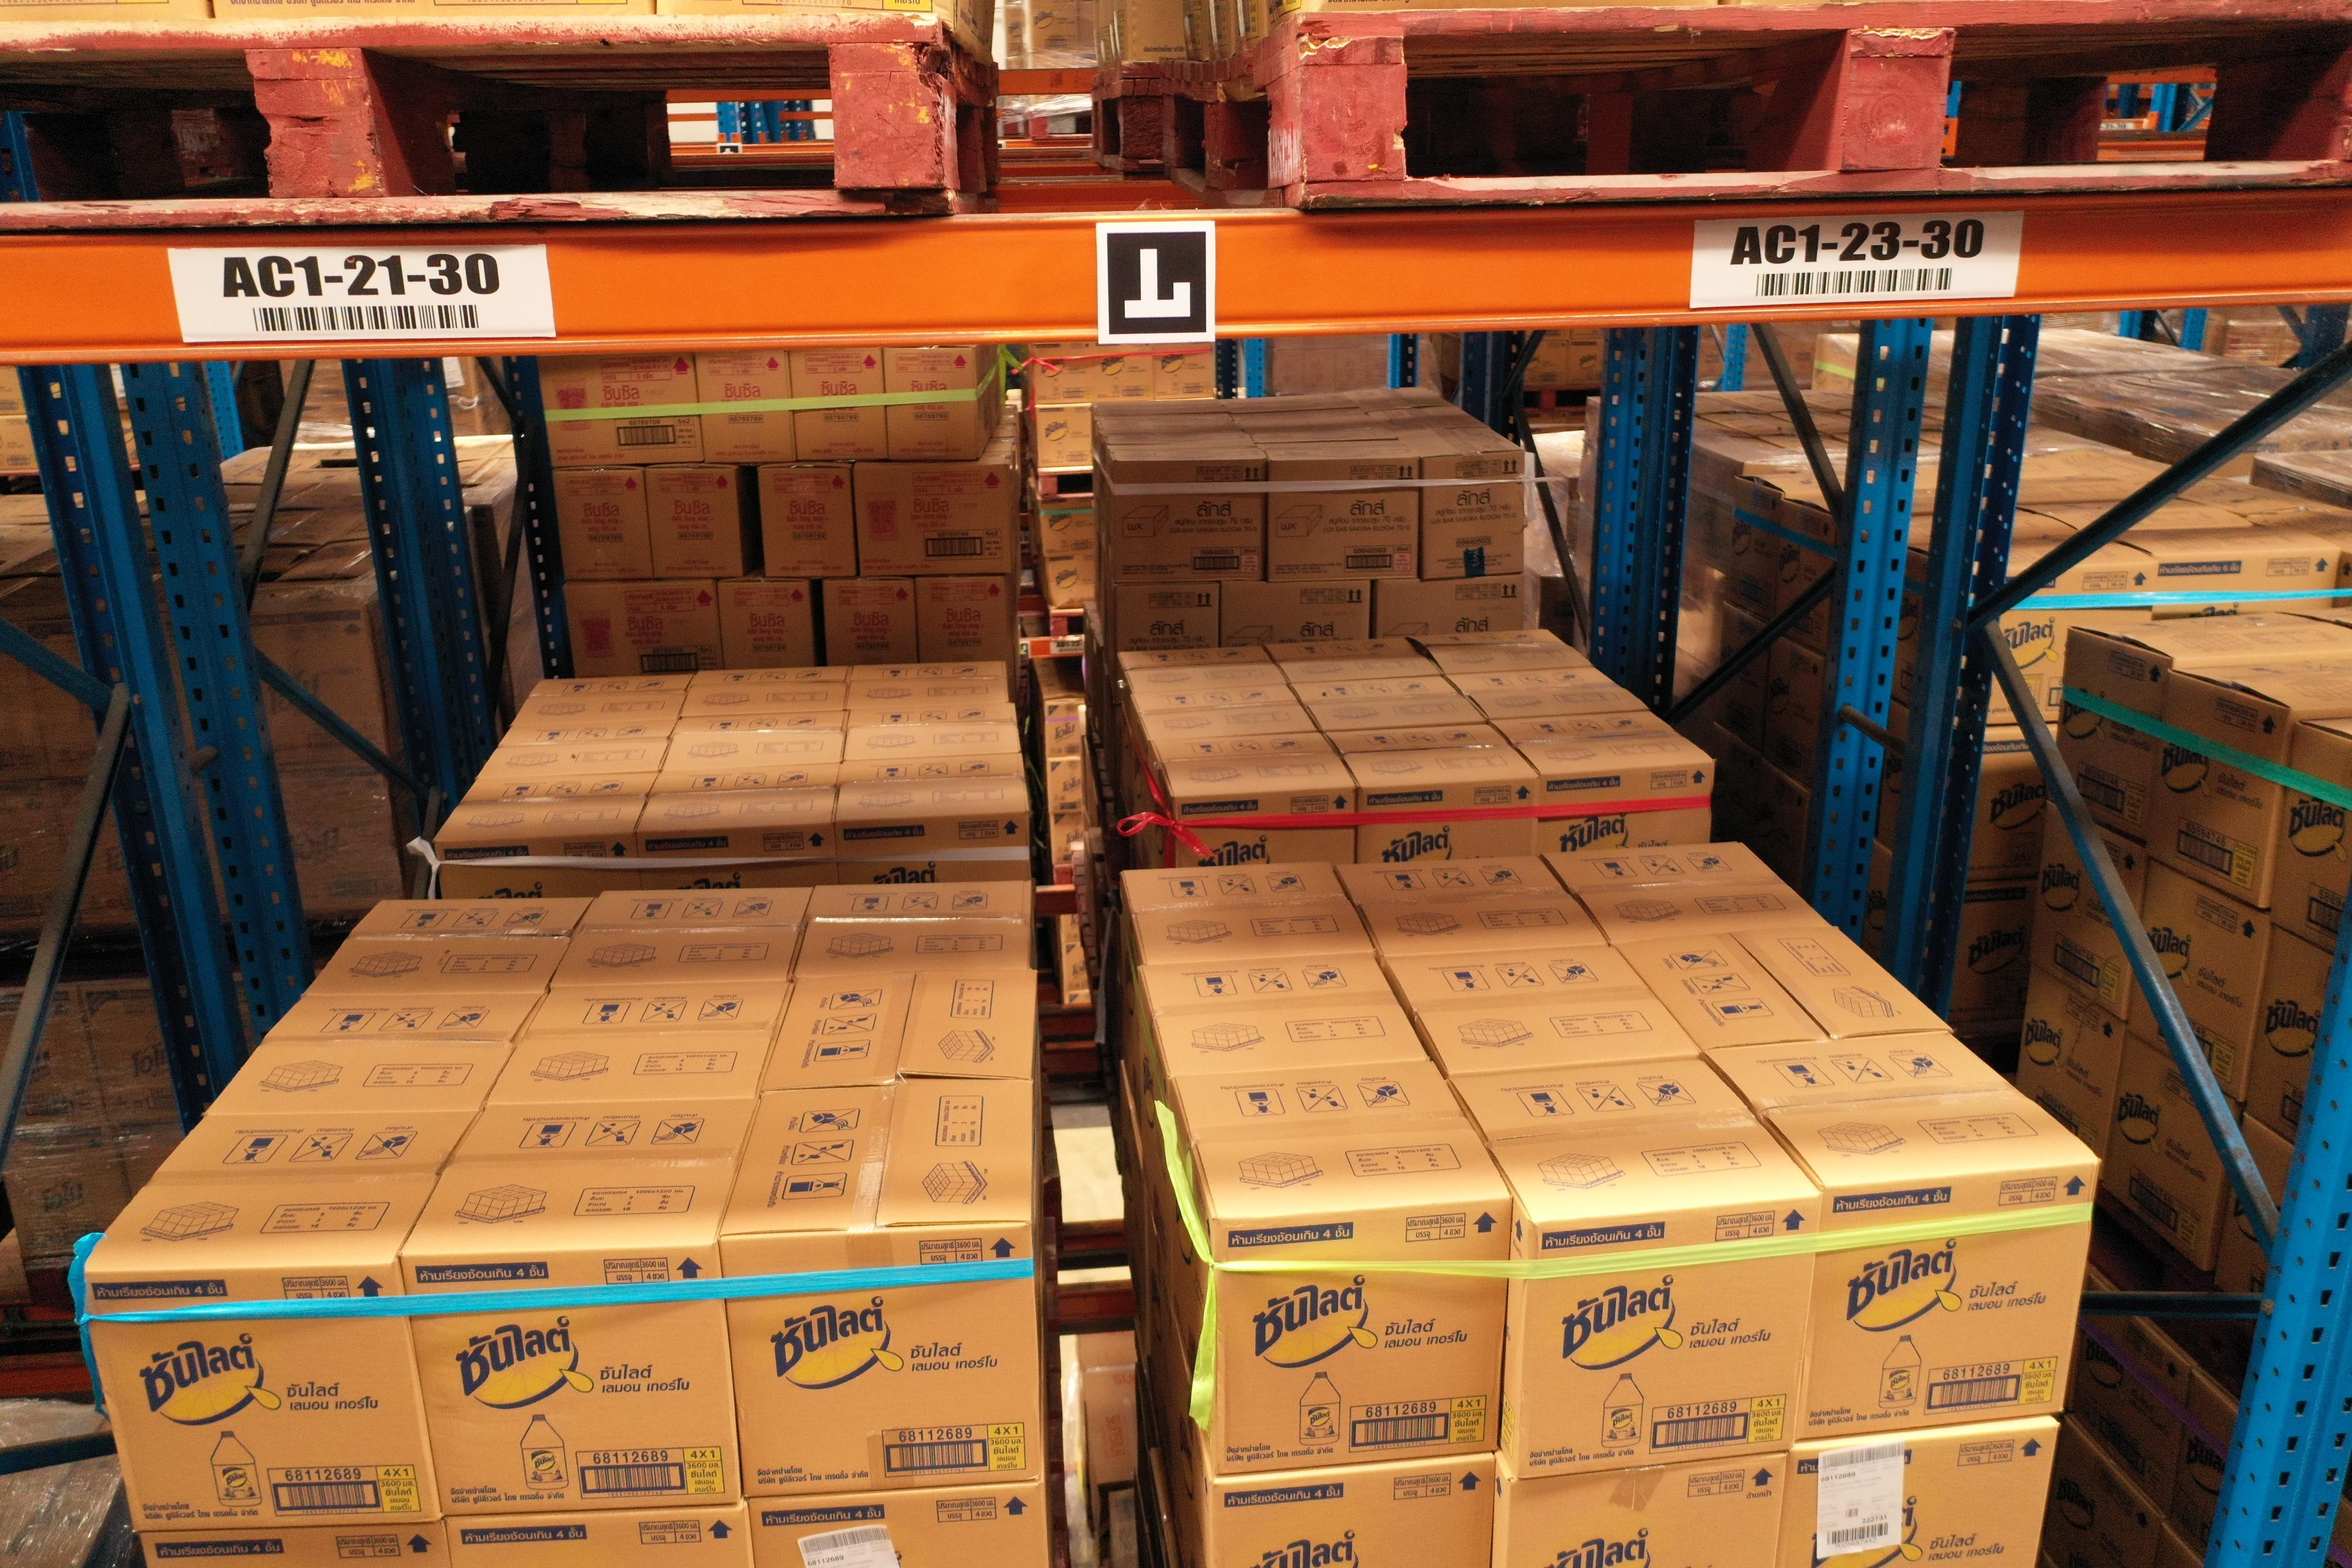-: (70, 1263, 439, 1529), (399, 1242, 740, 1517), (719, 1223, 1045, 1503), (1514, 1197, 1822, 1479), (1794, 1162, 2102, 1440), (1209, 1202, 1510, 1477), (1781, 1424, 2063, 1568), (1501, 1456, 1788, 1568), (1207, 1459, 1500, 1568), (749, 1486, 1050, 1568), (446, 1510, 751, 1568), (140, 1519, 455, 1568)
2: (535, 353, 703, 471), (852, 460, 1017, 579), (1113, 458, 1267, 584), (1265, 458, 1417, 583), (569, 581, 726, 675), (1423, 450, 1524, 577), (695, 350, 798, 464), (758, 465, 857, 583), (789, 348, 889, 462), (556, 465, 653, 583), (647, 465, 740, 581), (882, 348, 978, 458), (1220, 581, 1372, 647), (1377, 576, 1522, 639), (719, 579, 815, 670), (915, 577, 1011, 665), (821, 579, 915, 667), (1120, 583, 1220, 653)
